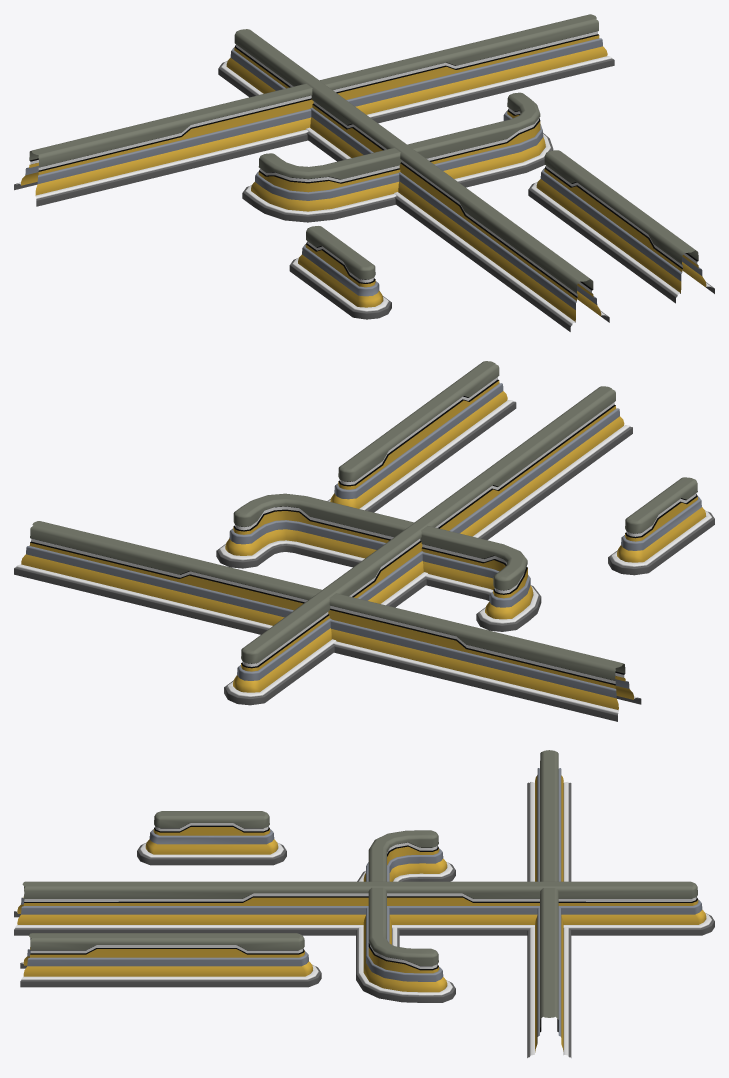
The model's file is Level26_Small_walls.fbx.
3 views of the same model, one above another, from view 1: azimuth 30°, elevation 25°; view 2: azimuth 150°, elevation 25°; view 3: azimuth 270°, elevation 25° (orthographic). The views are drawn at different scales.
Visible parts, largest first — view 1: Small_wallv1_6, Small_wallv1_3, Small_wallv1_4, Small_wall_L4, Small_wall_L5, Small_wallv1_2; view 2: Small_wallv1_6, Small_wallv1_3, Small_wallv1_4, Small_wall_L5, Small_wall_L4, Small_wallv1_2; view 3: Small_wallv1_3, Small_wallv1_4, Small_wallv1_6, Small_wallv1_2, Small_wall_L5, Small_wall_L4.
Part boxes in pixels (x1,y1,x2,y2): Small_wallv1_6: (14, 14, 614, 206); Small_wallv1_3: (218, 29, 609, 331); Small_wallv1_4: (528, 150, 714, 303); Small_wall_L4: (242, 147, 401, 222); Small_wall_L5: (407, 92, 553, 187); Small_wallv1_2: (289, 226, 391, 319); Small_wallv1_6: (14, 521, 641, 721); Small_wallv1_3: (224, 386, 632, 705); Small_wallv1_4: (327, 361, 516, 512); Small_wall_L5: (216, 493, 414, 568); Small_wall_L4: (420, 526, 541, 631); Small_wallv1_2: (608, 477, 714, 575); Small_wallv1_3: (14, 881, 714, 935); Small_wallv1_4: (20, 933, 321, 987); Small_wallv1_6: (527, 750, 571, 1057); Small_wallv1_2: (137, 811, 286, 865); Small_wall_L5: (356, 887, 455, 1002); Small_wall_L4: (357, 830, 455, 881).
Size of the model in its own units: 511 by 37.52 by 550.
